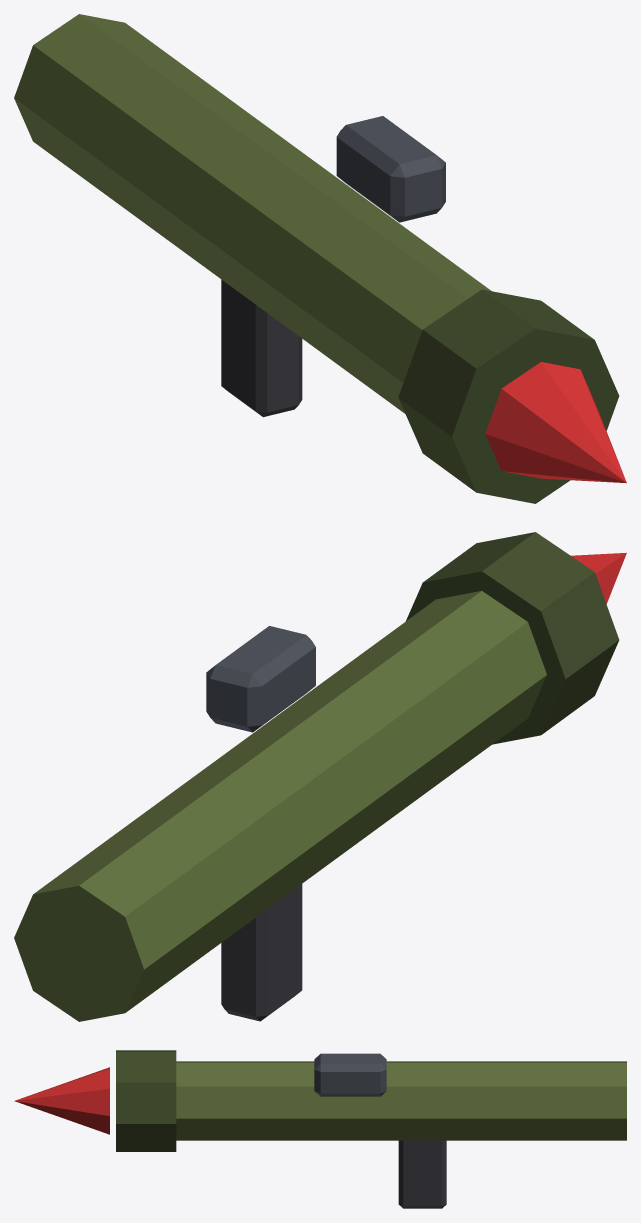
Rendered from Bazooka.fbx.
3 renders of one model, top to bottom at view 1: azimuth 30°, elevation 25°; view 2: azimuth 150°, elevation 25°; view 3: azimuth 270°, elevation 25°, orthographic. The views are drawn at different scales.
Parts seen in each view (by area): view 1: Bazooka; view 2: Bazooka; view 3: Bazooka.
Part boxes in pixels (left/top/right/bottom): Bazooka: left=14, top=14, right=626, bottom=503; Bazooka: left=14, top=532, right=626, bottom=1021; Bazooka: left=14, top=1050, right=626, bottom=1208.
Bounding box in the file's own units: 0.95 × 1.5 × 5.1.
Materials: 1 (1 with a texture image).
